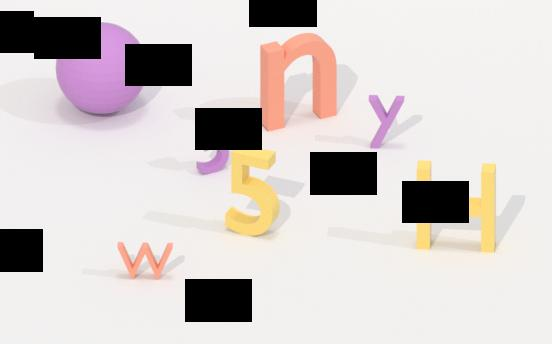5: (224, 144, 282, 241), (195, 116, 234, 176)
H-hoa: (413, 156, 500, 256)
Y: (366, 90, 410, 152)
cau: (49, 22, 156, 119)
n: (251, 33, 346, 133)
w: (112, 239, 179, 283)
